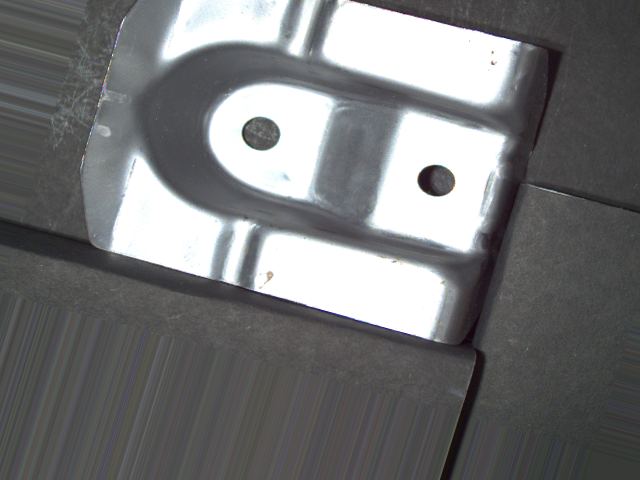defect: (237, 113, 285, 155)
